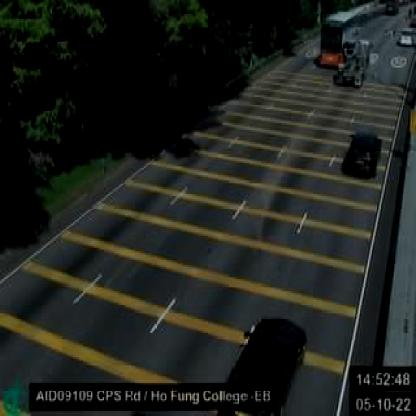Bus: (320, 10, 357, 66)
Car: (217, 317, 304, 413), (341, 132, 378, 175)
Truck: (332, 40, 369, 85)
